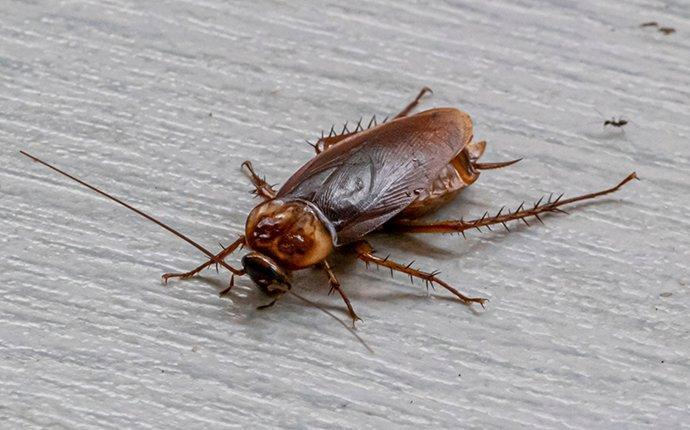cockroach: (231, 105, 474, 309)
